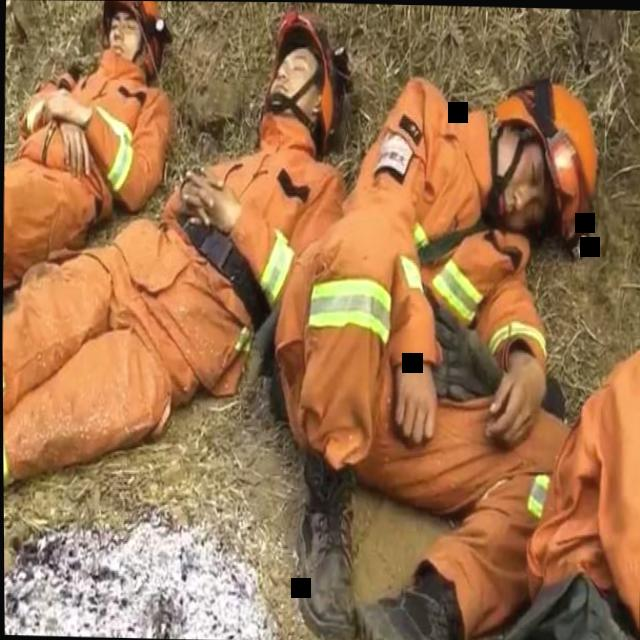Fall-Detected: (0, 3, 171, 397)
